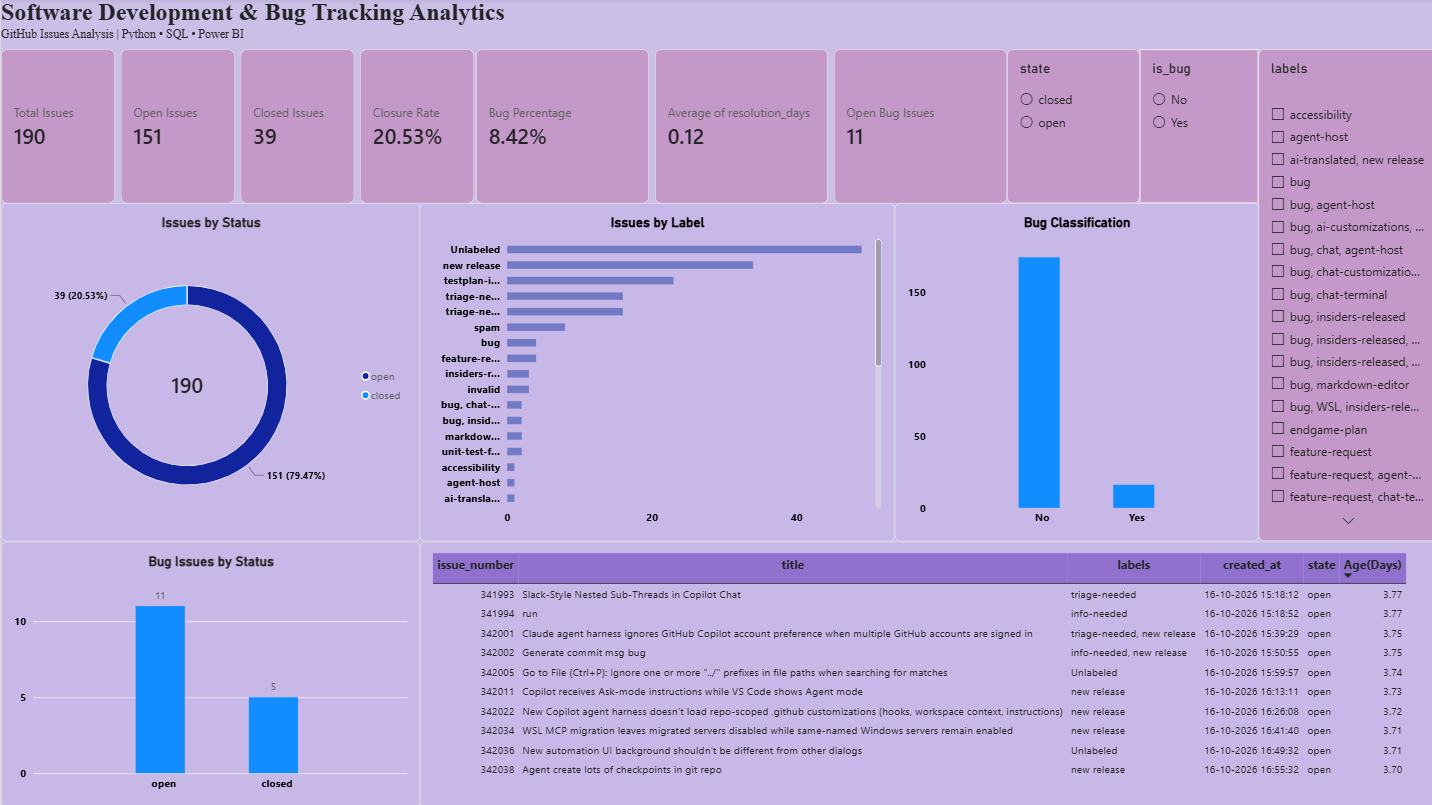

The page's visual inventory and layout, read from the dashboard file:
{"tool":"powerbi","page":{"name":"Overview","canvas":[1920,1080],"ordinal":0},"visuals":[{"type":"donutChart","title":"Issues by Status","fields":{"Category":["github_issues_cleaned.state"],"Y":["CountNonNull(github_issues_cleaned.issue_id)"]},"box":[0,274.3,560,452],"z":0},{"type":"clusteredColumnChart","title":"Bug Classification","fields":{"Category":["github_issues_cleaned.is_bug"],"Y":["CountNonNull(github_issues_cleaned.issue_id)"]},"box":[1194.3,274.3,486,452],"z":1000},{"type":"barChart","title":"Issues by Label","fields":{"Category":["github_issues_cleaned.labels"],"Y":["CountNonNull(github_issues_cleaned.issue_id)"]},"box":[560,274.3,634,452],"z":2000},{"type":"cardVisual","fields":{"Data":["github_issues_cleaned.Total Issues","github_issues_cleaned.Open Issues","github_issues_cleaned.Closed Issues","github_issues_cleaned.Closure Rate"]},"box":[0,68.6,634,206],"z":3000},{"type":"listSlicer","fields":{"Values":["github_issues_cleaned.state"]},"box":[1344.3,68.6,177.1,205.7],"z":4000},{"type":"listSlicer","fields":{"Values":["github_issues_cleaned.is_bug"]},"box":[1521.4,68.6,158.6,205.7],"z":5000},{"type":"listSlicer","fields":{"Values":["github_issues_cleaned.labels"]},"box":[1680,68.6,240,657.1],"z":6000},{"type":"cardVisual","fields":{"Data":["github_issues_cleaned.Bug Percentage","Avg(github_issues_cleaned.resolution_days)","github_issues_cleaned.Open Bug Issues"]},"box":[634.3,68.6,710,206],"z":7000},{"type":"tableEx","fields":{"Values":["github_issues_cleaned.issue_number","github_issues_cleaned.title","github_issues_cleaned.labels","github_issues_cleaned.created_at","github_issues_cleaned.state","Sum(github_issues_cleaned.Issue Age Days)"]},"box":[560,726,1360,354],"z":8000},{"type":"textbox","box":[0,883,560,197],"z":9000},{"type":"textbox","box":[0,0,1160,68.6],"z":10000},{"type":"clusteredColumnChart","title":"Bug Issues by Status","fields":{"Category":["github_issues_cleaned.state"],"Y":["CountNonNull(github_issues_cleaned.issue_id)"]},"box":[0,726,560,354],"z":11000}]}

Visuals, with their boxes in screenshot pixels (x1, y1, x2, y2), scaled from the page's 1920x1080 canvas onto the 1432x805 screenshot:
"Issues by Status" donutChart: pyautogui.locateOnScreen(0, 204, 418, 541)
"Bug Classification" clusteredColumnChart: pyautogui.locateOnScreen(891, 204, 1253, 541)
"Issues by Label" barChart: pyautogui.locateOnScreen(418, 204, 891, 541)
cardVisual - github_issues_cleaned.Total Issues x github_issues_cleaned.Open Issues: pyautogui.locateOnScreen(0, 51, 473, 205)
listSlicer - github_issues_cleaned.state: pyautogui.locateOnScreen(1003, 51, 1135, 204)
listSlicer - github_issues_cleaned.is_bug: pyautogui.locateOnScreen(1135, 51, 1253, 204)
listSlicer - github_issues_cleaned.labels: pyautogui.locateOnScreen(1253, 51, 1431, 541)
cardVisual - github_issues_cleaned.Bug Percentage x Avg(github_issues_cleaned.resolution_days): pyautogui.locateOnScreen(473, 51, 1003, 205)
tableEx - github_issues_cleaned.issue_number x github_issues_cleaned.title: pyautogui.locateOnScreen(418, 541, 1431, 804)
textbox: pyautogui.locateOnScreen(0, 658, 418, 804)
textbox: pyautogui.locateOnScreen(0, 0, 865, 51)
"Bug Issues by Status" clusteredColumnChart: pyautogui.locateOnScreen(0, 541, 418, 804)
